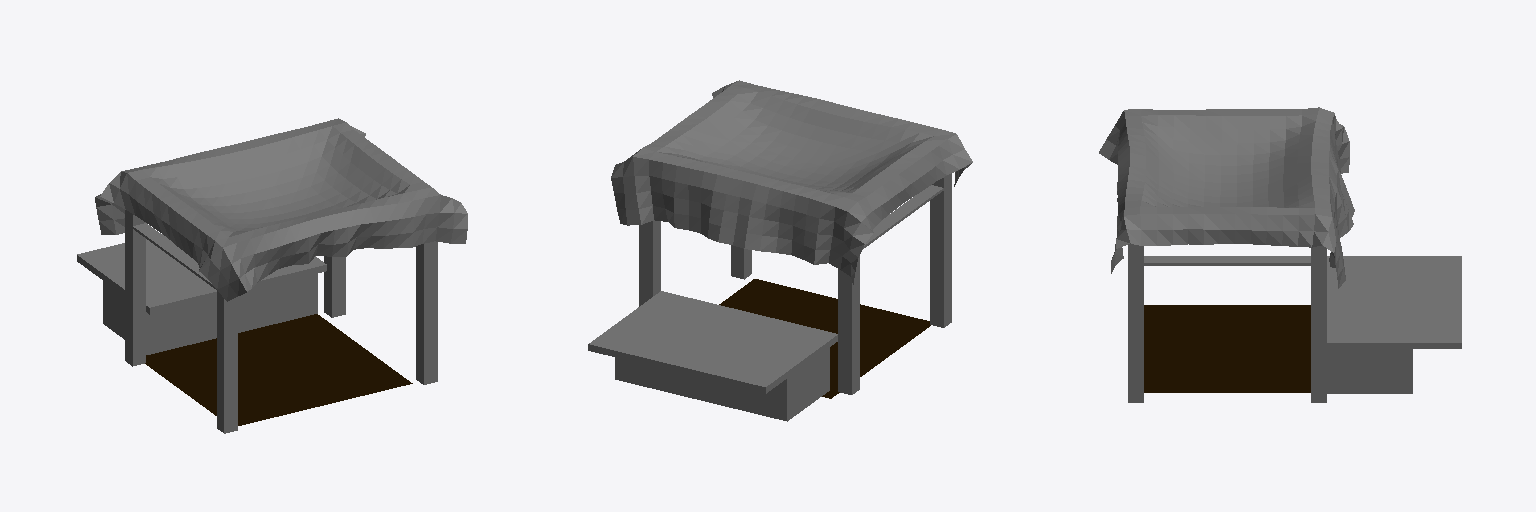
The model's file is MerchantStall_01.obj.
The picture shows the model from 3 angles: view 1: azimuth 30°, elevation 25°; view 2: azimuth 150°, elevation 25°; view 3: azimuth 270°, elevation 25°; orthographic projection.
Visible parts, largest first — view 1: MerchangStall_02; view 2: MerchangStall_02; view 3: MerchangStall_02.
Boxes of the visible parts, box(x1,y1,x2,y2) form: MerchangStall_02: box(77, 118, 467, 433); MerchangStall_02: box(588, 80, 972, 421); MerchangStall_02: box(1099, 107, 1461, 402).
Size of the model in its own units: 2.29 by 1.6 by 2.74.